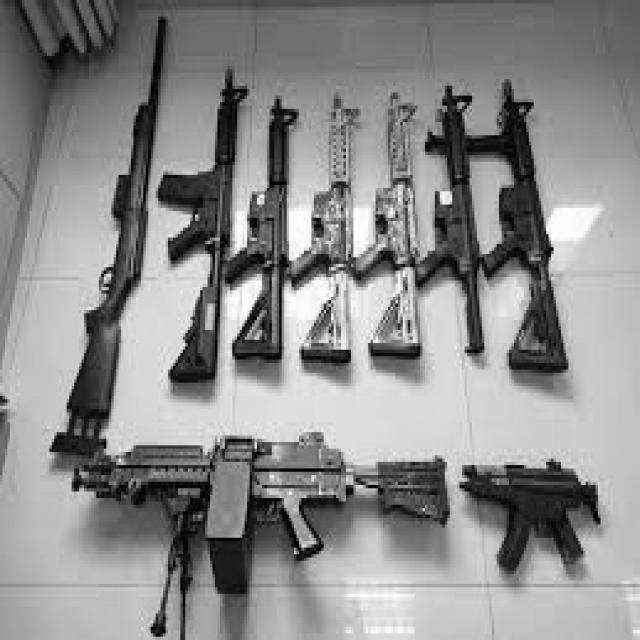gun: (69, 429, 450, 637), (47, 13, 166, 455), (468, 73, 582, 379), (156, 62, 247, 382), (222, 93, 299, 360), (286, 89, 361, 363), (351, 89, 422, 356), (418, 82, 484, 353), (457, 455, 601, 571)
